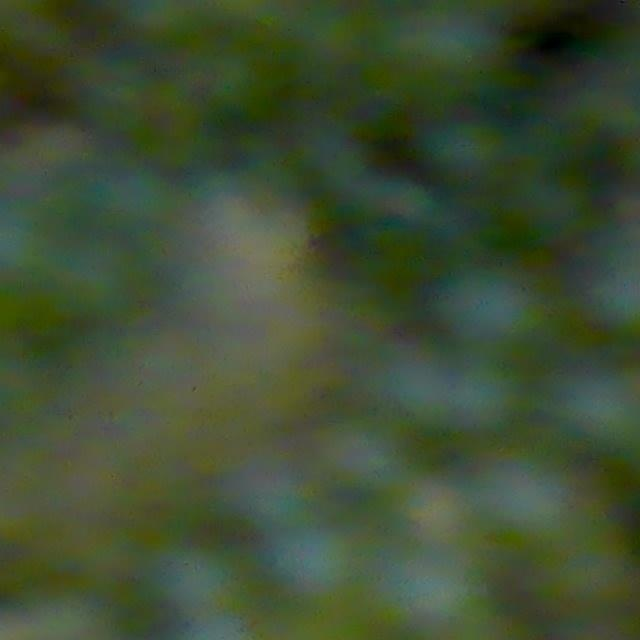SeaGrape: (375, 547, 483, 640), (448, 265, 545, 352), (273, 521, 362, 605), (319, 412, 405, 496), (153, 540, 241, 620), (426, 113, 509, 187), (445, 360, 523, 436)
